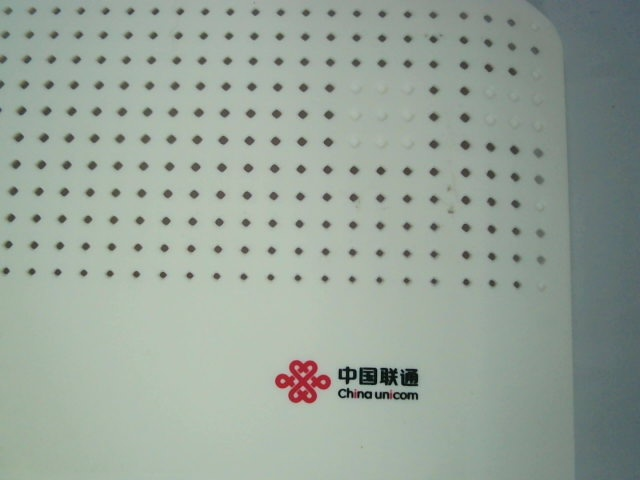AD_ChinaUnicom: (267, 333, 433, 418)
